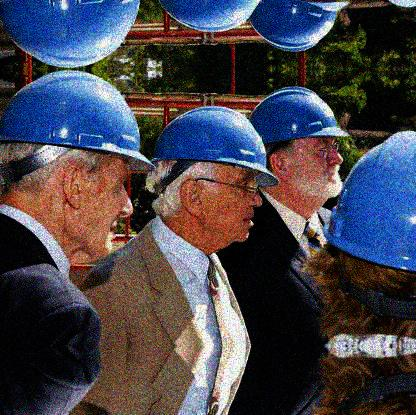helmet: (1, 69, 154, 261), (143, 106, 278, 260), (325, 131, 416, 317), (247, 85, 351, 203)
